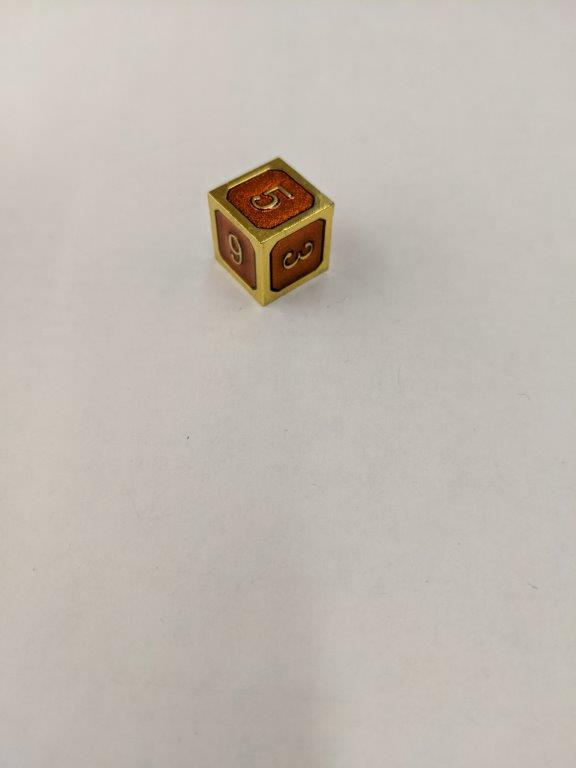d6-5: (207, 154, 334, 304)
